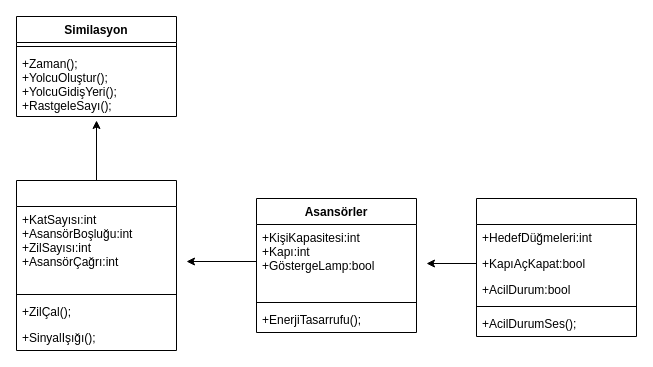
The diagram is 653 pixels wide and 367 high, and some of its shapes have lost their labels. Each missing label, with the box of its shape:
Bina: (16, 180, 176, 350)
KontrolPaneli: (476, 198, 636, 336)
